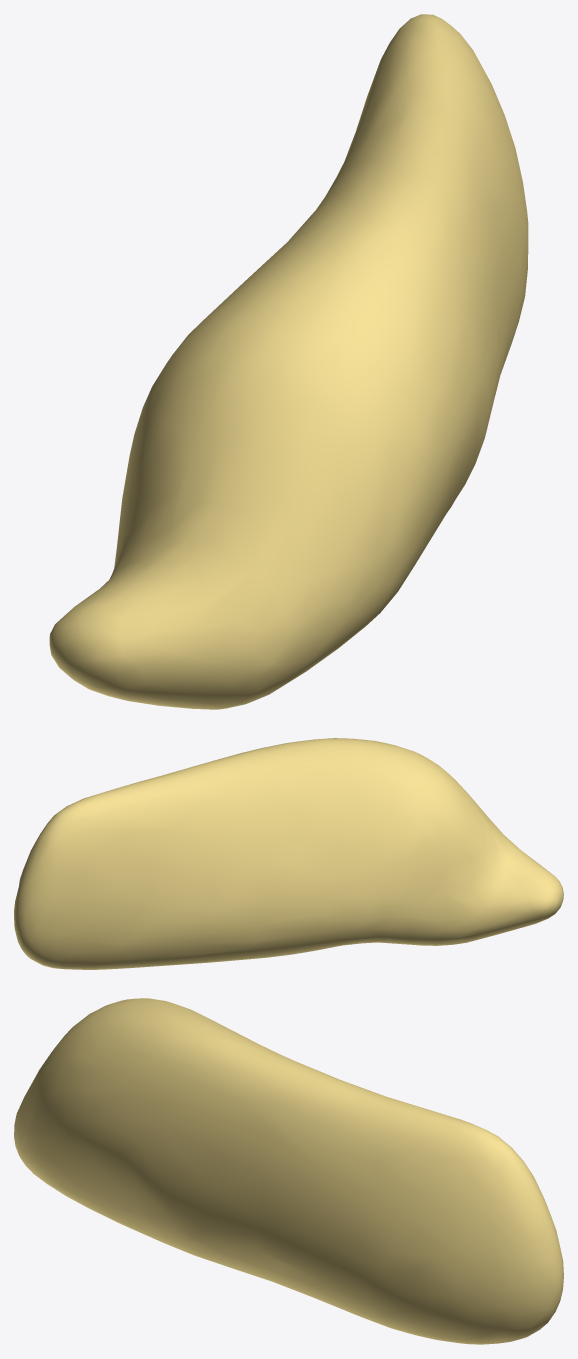
The model's file is fma72859_mm2915.glb.
3 renders of one model, top to bottom at view 1: azimuth 30°, elevation 25°; view 2: azimuth 150°, elevation 25°; view 3: azimuth 270°, elevation 25°, orthographic. The views are drawn at different scales.
Visible parts, largest first — view 1: FMA72859_MM2915; view 2: FMA72859_MM2915; view 3: FMA72859_MM2915.
Part boxes in pixels (<box>): FMA72859_MM2915: <box>49,14,528,709</box>; FMA72859_MM2915: <box>14,738,563,969</box>; FMA72859_MM2915: <box>14,998,563,1344</box>.
Size of the model in its own units: 0.0154 by 0.00727 by 0.015.
